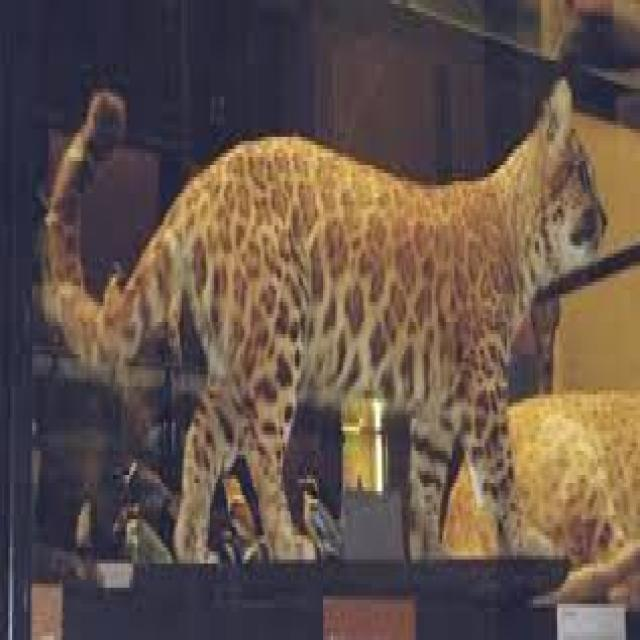Jaguar: (34, 80, 610, 560)
